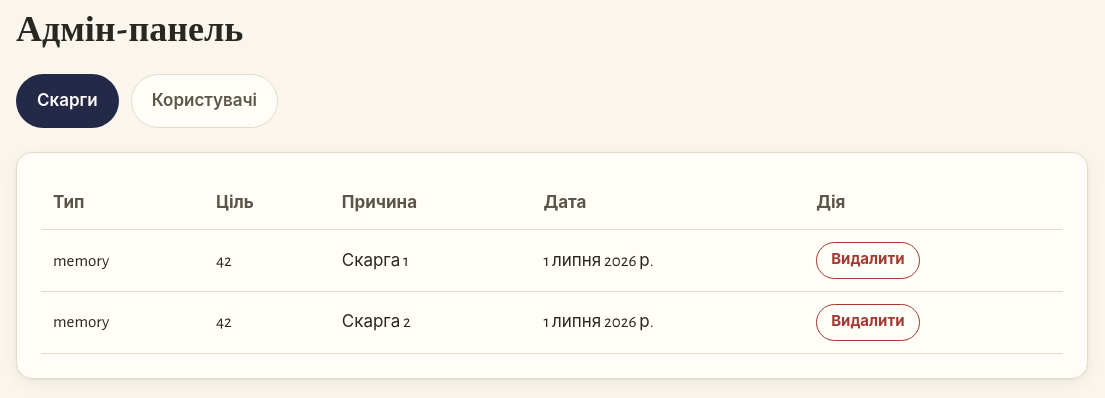
Test: AdminPage › deletes a reported memory, removes all sibling rows for that target, and confirms
The width and height of the screenshot is (1105, 398).
Click delete on the first row
Click the button "Видалити" in the row of "Скарга 1": (868, 261) x1=816 y1=242 x2=920 y2=279
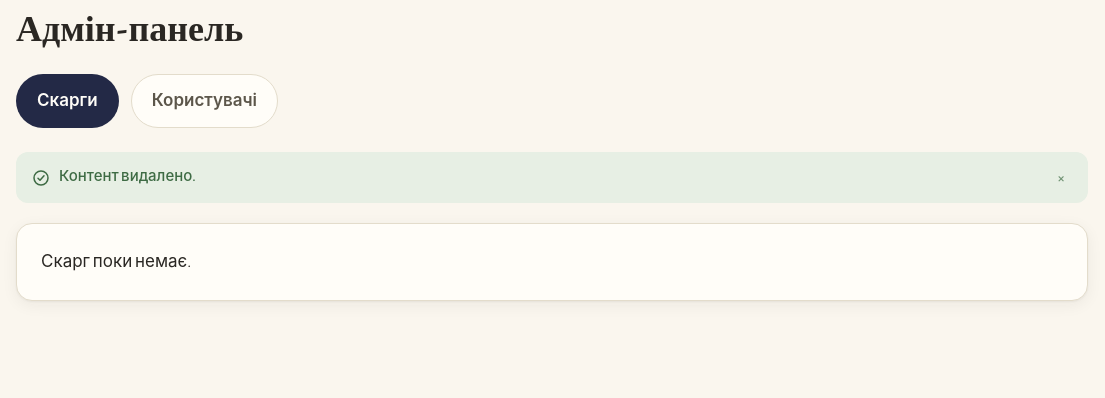
expect the text "Контент видалено." is shown: met, box x1=59 y1=165 x2=196 y2=190
expect the text "Скарга 1" is gone: met
expect the text "Скарга 2" is gone: met
